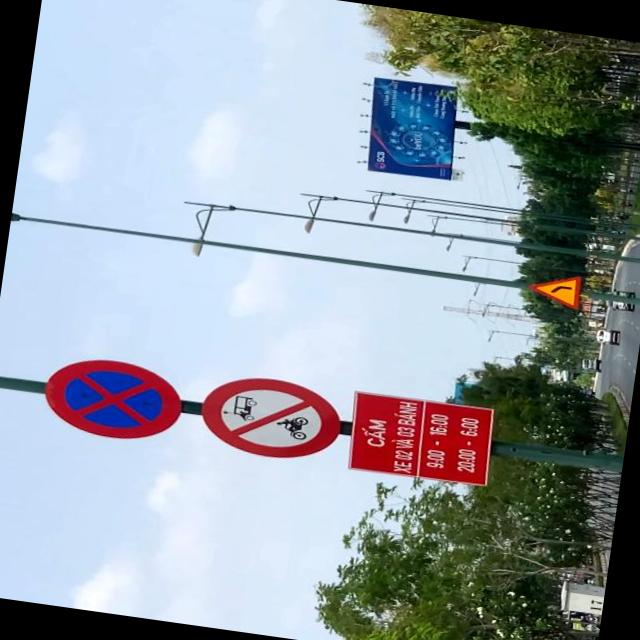P-104: (198, 369, 344, 466)
P-130: (39, 352, 188, 446)
W-201a: (527, 272, 583, 308)
